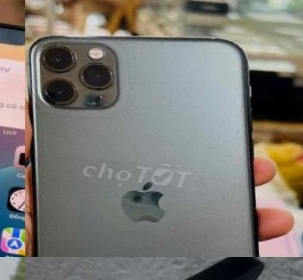scratch: (107, 30, 244, 86), (40, 35, 78, 65)
